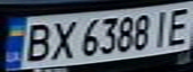3: (96, 15, 121, 56)
6: (75, 16, 103, 57)
8: (115, 12, 139, 53), (133, 11, 154, 52)
B: (18, 20, 54, 63)
E: (163, 4, 193, 47)
I: (148, 8, 172, 48)
X: (45, 17, 78, 61)
